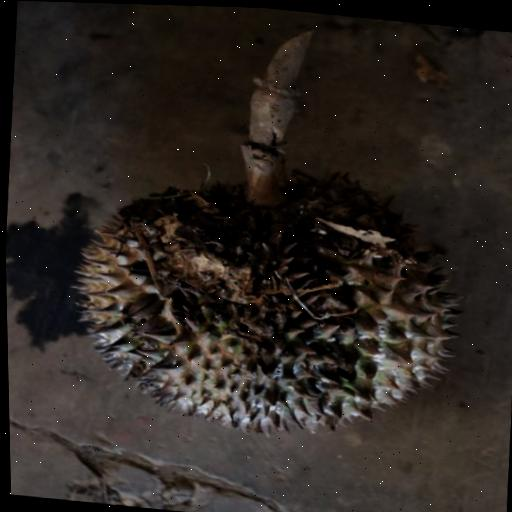rot: (13, 0, 505, 475)
